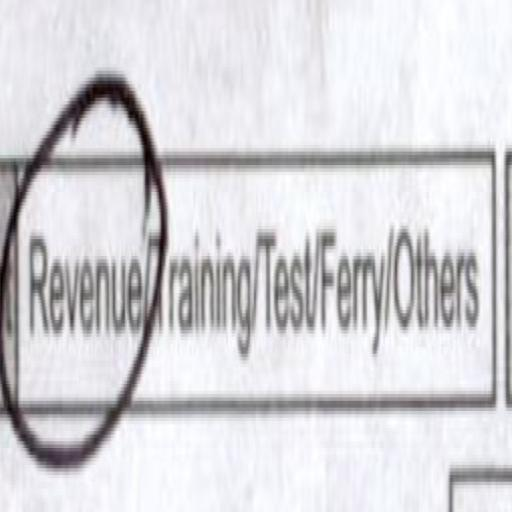check: (24, 85, 143, 479)
